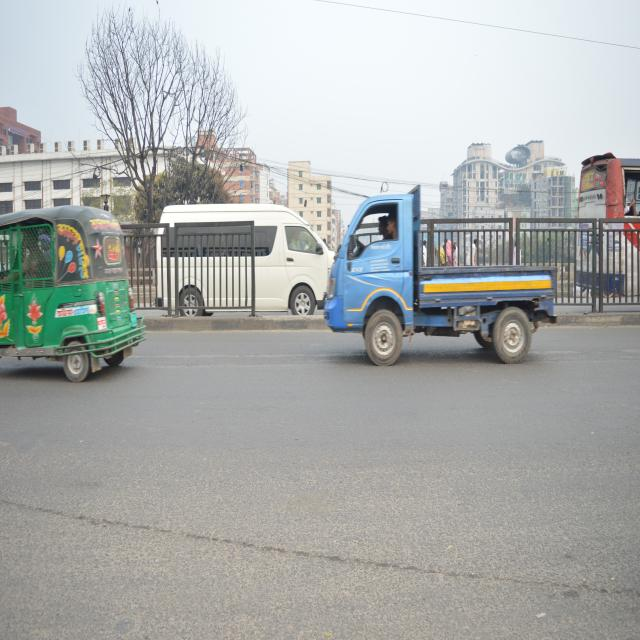bus: (573, 141, 640, 309)
microbus: (145, 184, 349, 346)
pickup-van: (320, 182, 566, 380)
